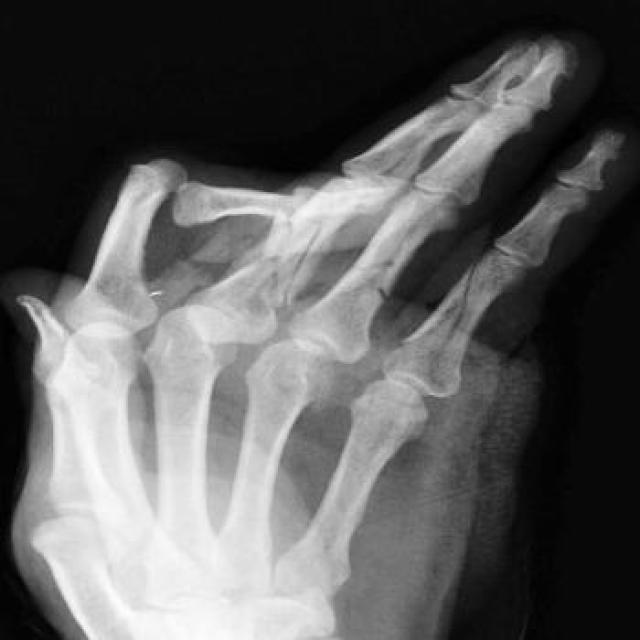Fracture: (437, 256, 490, 399), (152, 144, 214, 247), (264, 219, 328, 300), (342, 248, 397, 310)
